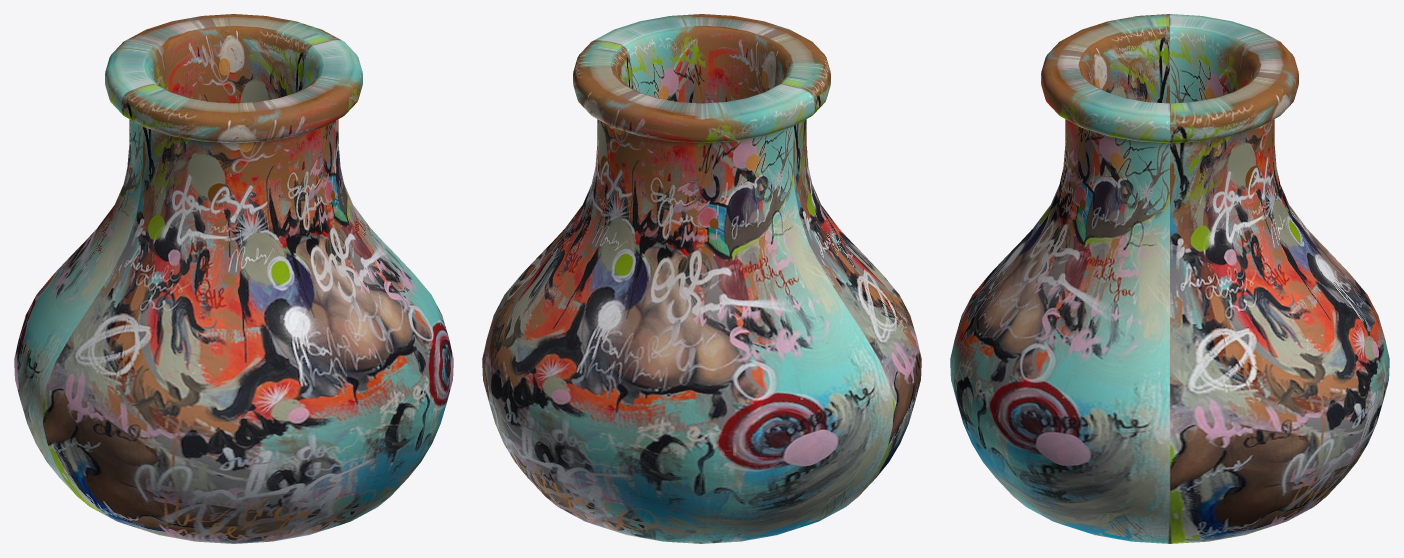
File: vase2.fbx
The picture shows the model from 3 angles, left to right: view 1: azimuth 30°, elevation 25°; view 2: azimuth 150°, elevation 25°; view 3: azimuth 270°, elevation 25°; orthographic projection.
Visible parts, largest first — view 1: Vase; view 2: Vase; view 3: Vase.
Part boxes in pixels (x1,y1,x2,y2): Vase: (14, 14, 453, 543); Vase: (482, 14, 921, 543); Vase: (950, 14, 1389, 543).
Bounding box in the file's own units: 0.1975 × 0.2076 × 0.1964.
